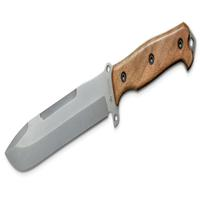knife: (5, 21, 198, 175)
